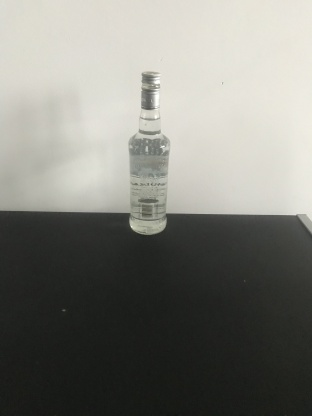nakretka: (139, 69, 162, 110)
